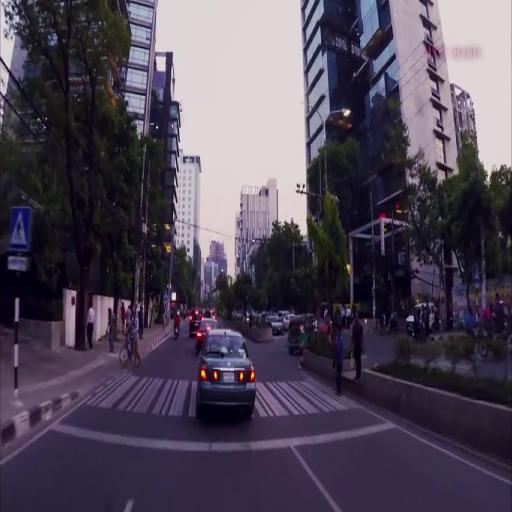bicycle: (119, 330, 141, 371)
car: (197, 327, 257, 416), (196, 318, 219, 349)
minivan: (407, 301, 437, 335)
motorbike: (173, 318, 180, 339)
three wheelers (CNG): (287, 314, 316, 353)
